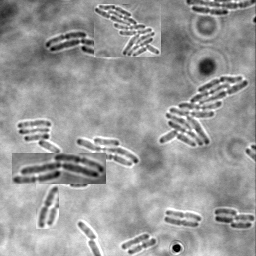Dividing: (36, 184, 59, 229), (128, 238, 157, 255), (166, 209, 202, 222), (164, 217, 200, 228), (192, 7, 229, 17)
Microcolony: (158, 76, 249, 147), (94, 4, 161, 57), (12, 153, 106, 184), (76, 137, 139, 168), (18, 120, 61, 153), (45, 32, 94, 57), (214, 208, 255, 229)
Rod: (121, 233, 150, 251), (78, 222, 99, 240)
